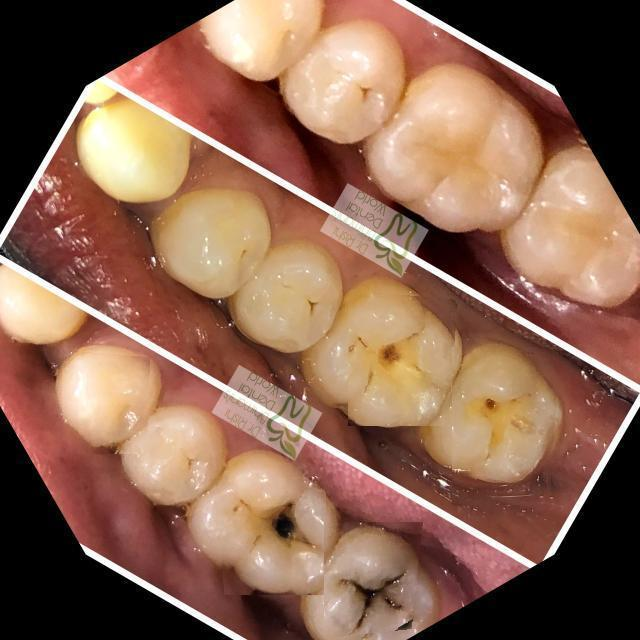Cavity: (453, 347, 561, 506), (214, 456, 326, 595), (348, 291, 458, 427), (324, 522, 424, 640), (63, 350, 151, 454), (312, 51, 386, 128)
